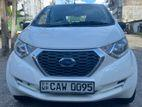car: (7, 3, 137, 104)
